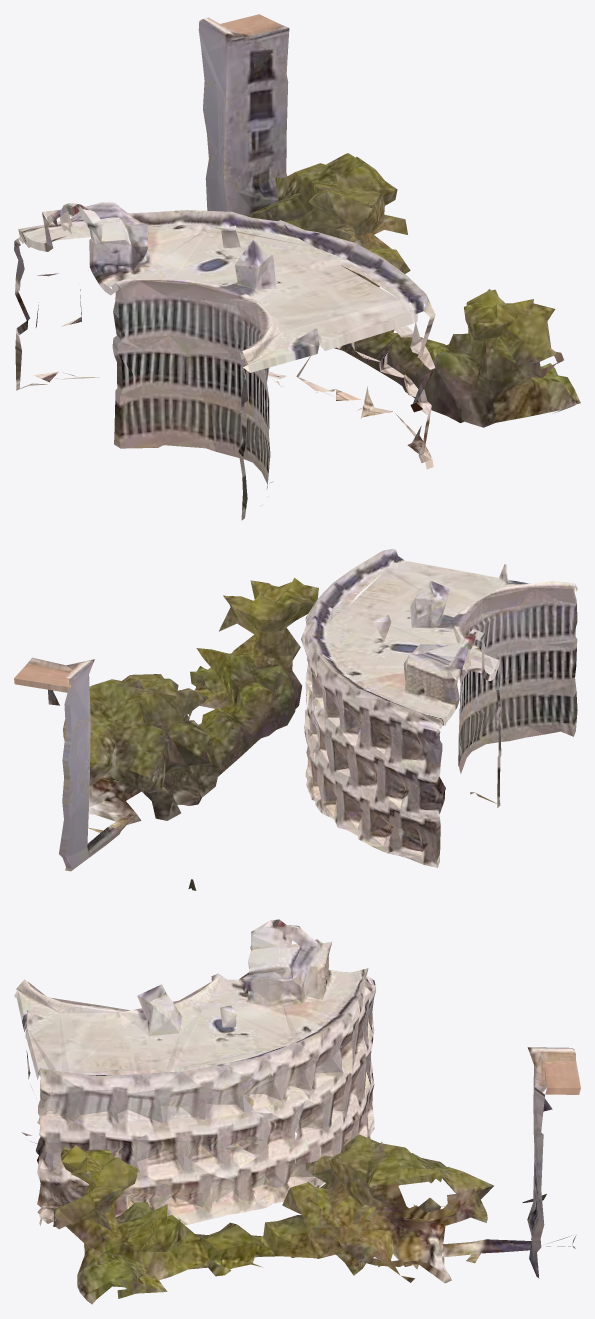
3 renders of one model, top to bottom at view 1: azimuth 30°, elevation 25°; view 2: azimuth 150°, elevation 25°; view 3: azimuth 270°, elevation 25°, orthographic. The views are drawn at different scales.
Visible parts, largest first — view 1: Mesh_0; view 2: Mesh_0; view 3: Mesh_0.
Part boxes in pixels (box(x1,y1,x2,y2)): Mesh_0: box(14, 14, 580, 520); Mesh_0: box(14, 549, 577, 890); Mesh_0: box(14, 919, 580, 1304).
Bounding box in the file's own units: 31.75 × 16.61 × 41.32.
Materials: 2 (2 with a texture image).
